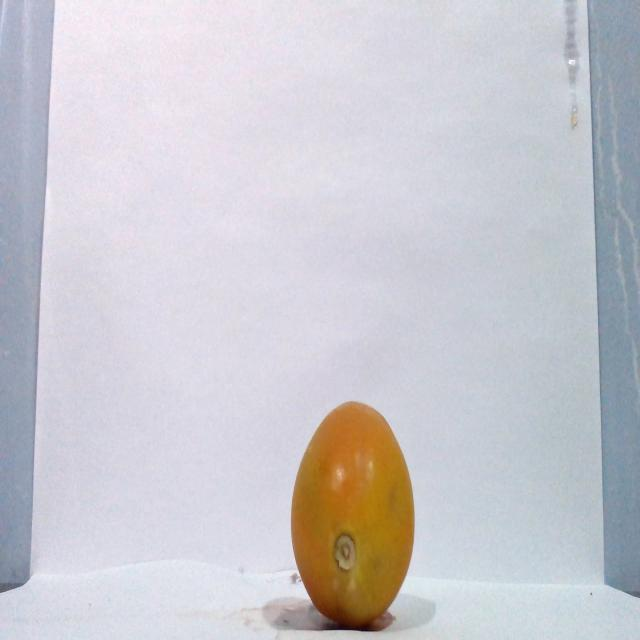Red: (289, 399, 415, 628)
